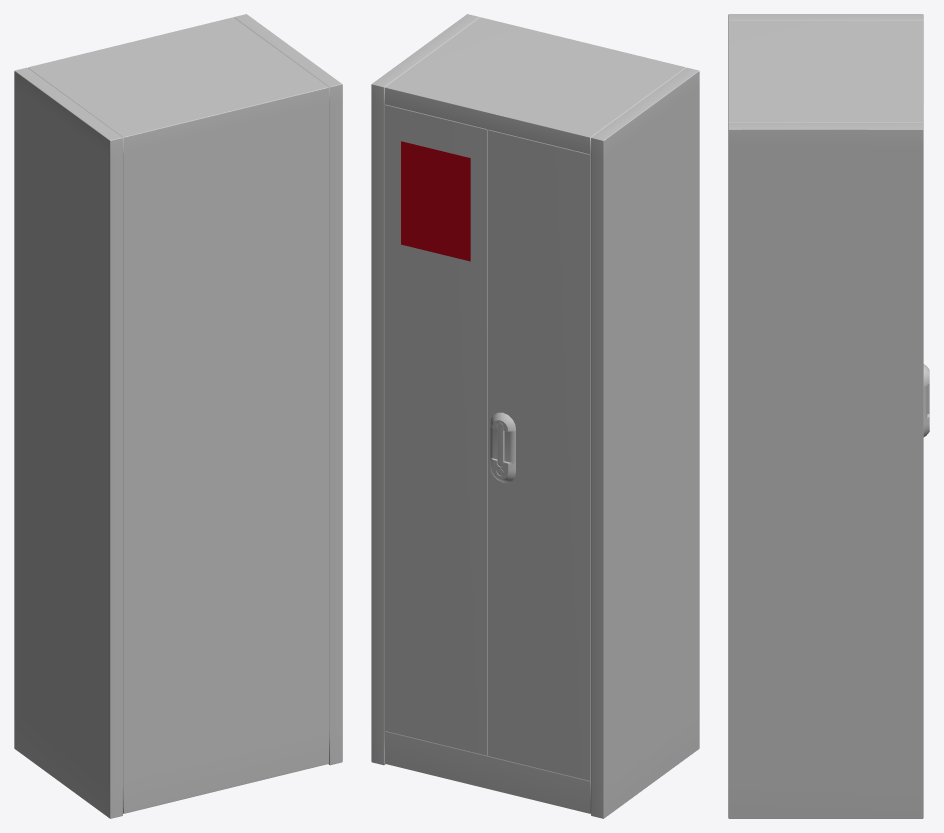
File: SM_Locker.fbx
3 renders of one model, left to right at view 1: azimuth 30°, elevation 25°; view 2: azimuth 150°, elevation 25°; view 3: azimuth 270°, elevation 25°, orthographic.
Visible parts, largest first — view 1: Locker; view 2: Locker; view 3: Locker.
Part boxes in pixels (x1=…): Locker: x1=14, y1=14, x2=342, y2=818; Locker: x1=371, y1=14, x2=699, y2=818; Locker: x1=728, y1=14, x2=929, y2=818.
Bounding box in the file's own units: 0.7 × 1.95 × 0.5153.
